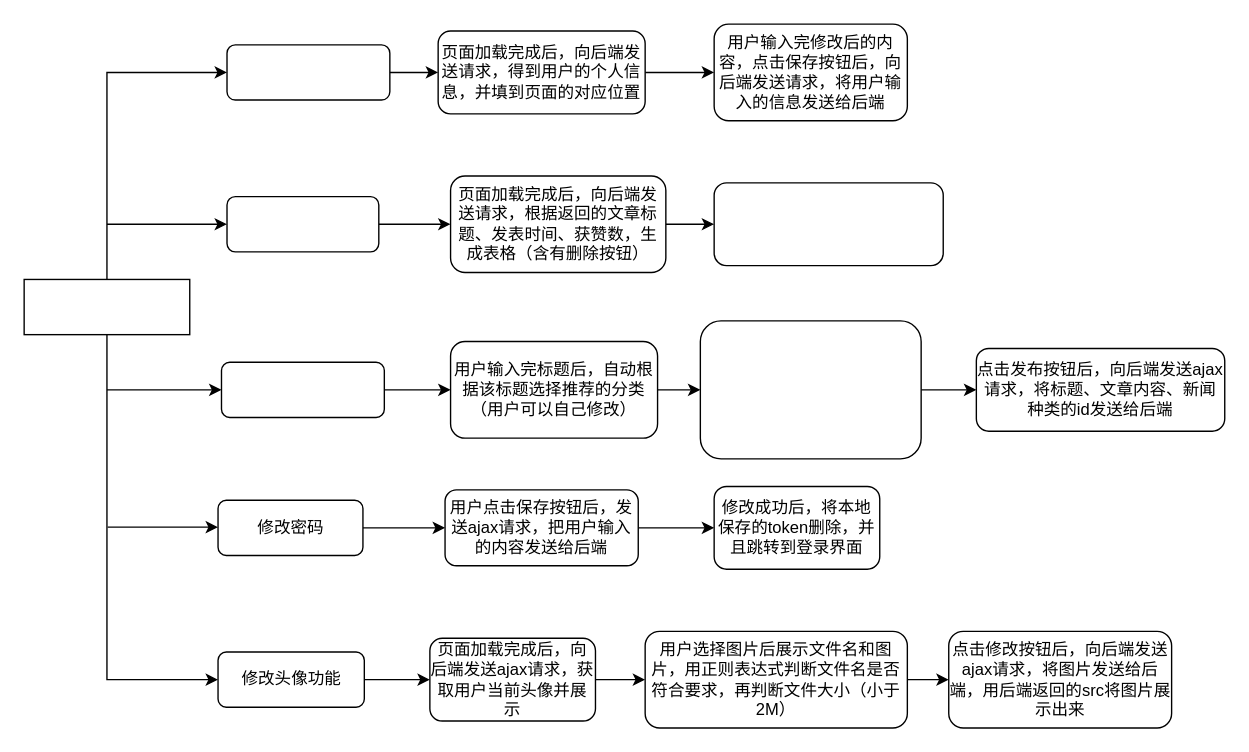
The diagram is 1249 pixels wide and 752 high, and some of its shapes have lost their labels. The centre of each missing label's shape, as x and y in pixels:
"修改个人信息" goes at (x=308, y=71).
"分类有五个按钮，给每个按钮添加一个自定义属性data-index，从1到5，每个数字代表一种类别，向后端发送文章类别时只要发送数字即可" goes at (x=810, y=389).
"发表文章" goes at (x=302, y=389).
"点击删除按钮向后端发送token和文章的id，删除文章" goes at (x=828, y=223).
"用户个人中心" goes at (x=106, y=306).
"管理文章" goes at (x=302, y=223).
